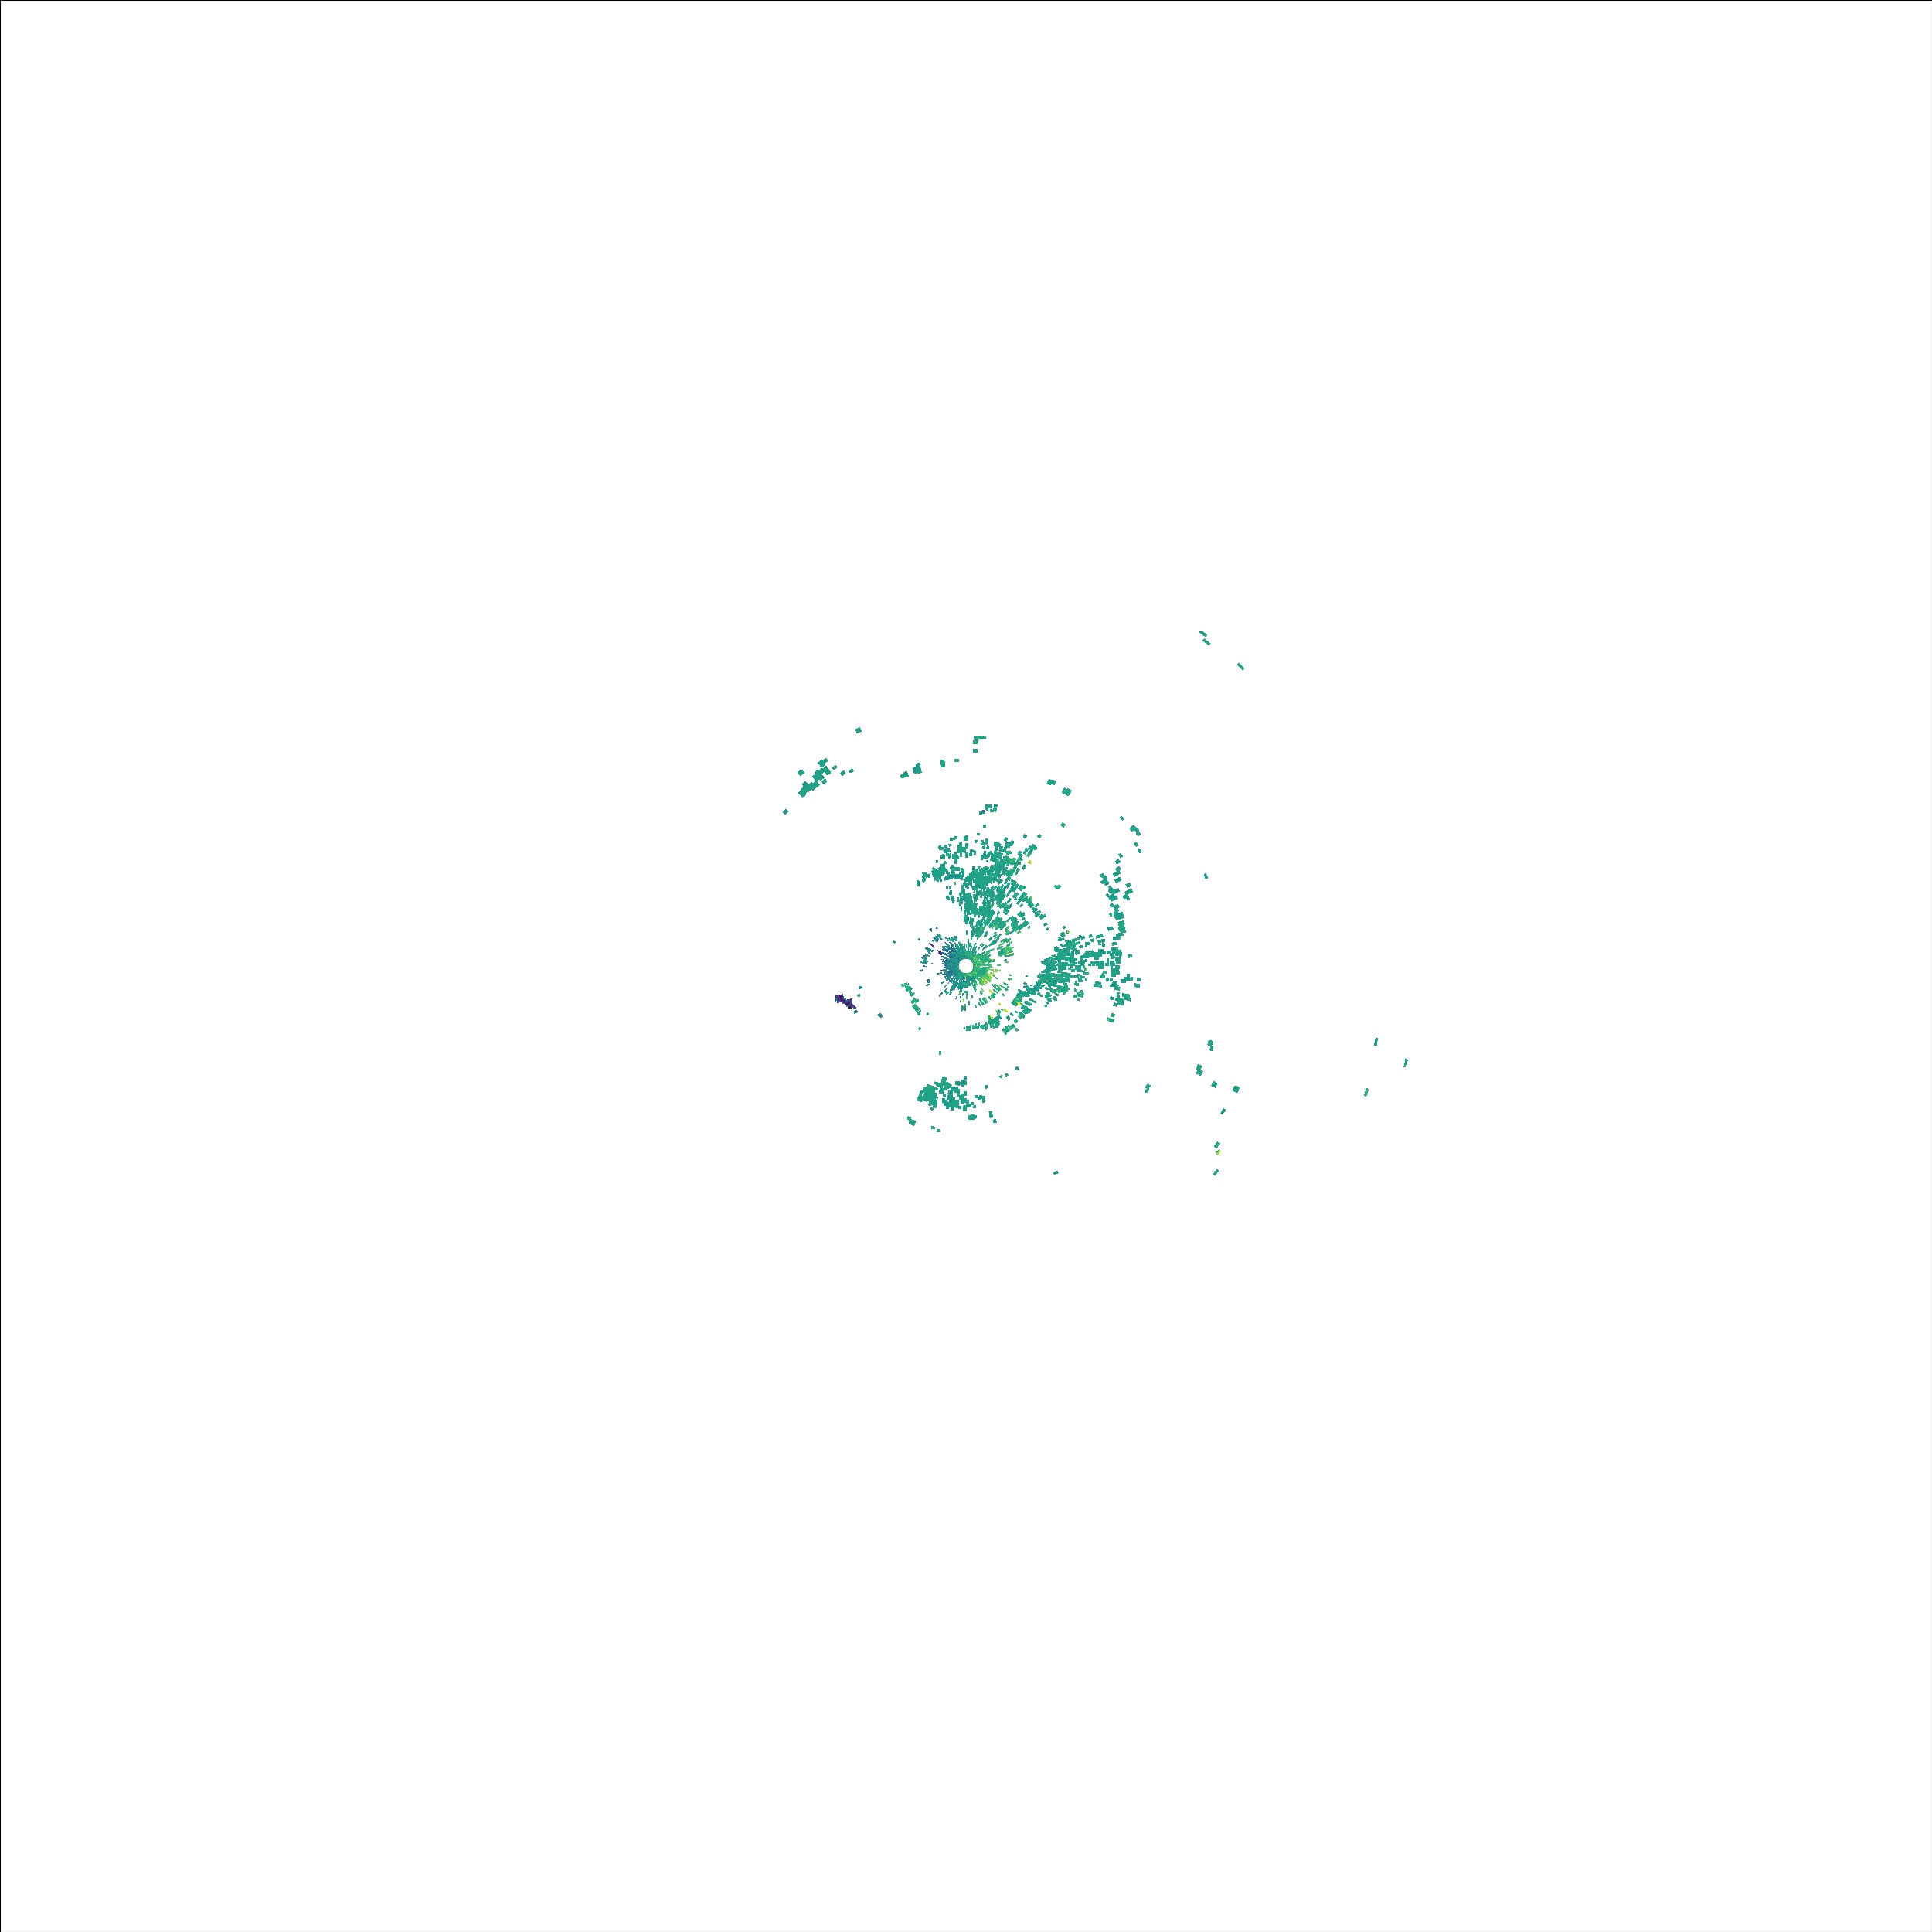fall: (830, 989, 858, 1019)
